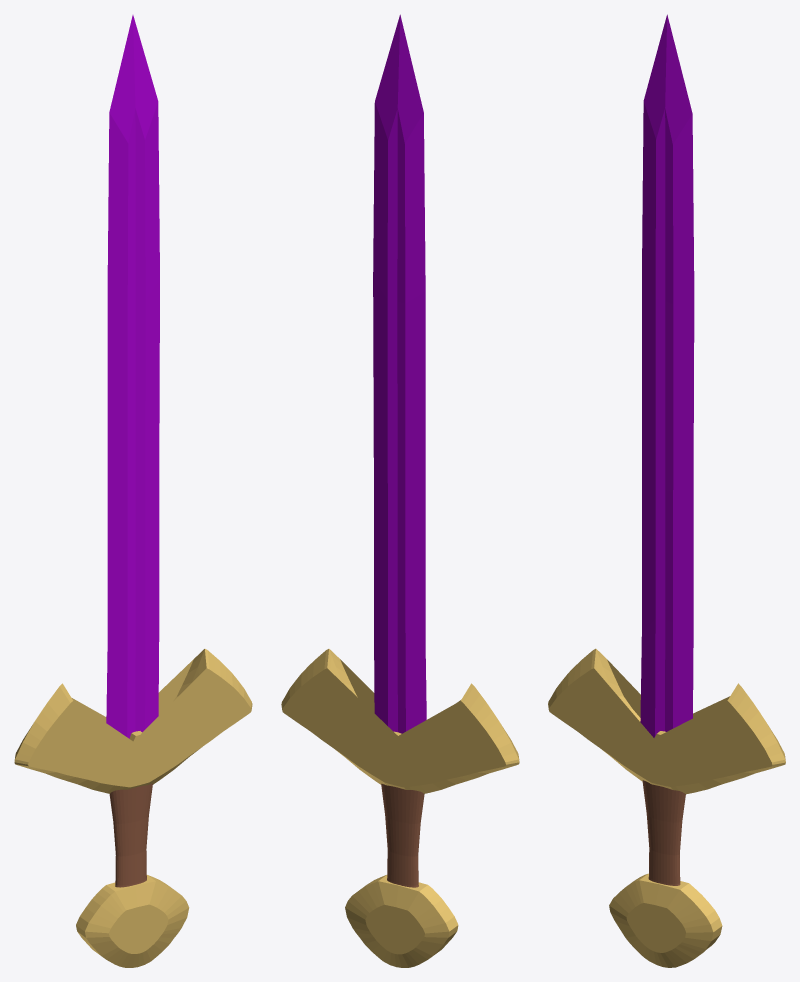
The model's file is Sword.fbx.
3 renders of one model, left to right at view 1: azimuth 30°, elevation 25°; view 2: azimuth 150°, elevation 25°; view 3: azimuth 330°, elevation 25°, orthographic.
Parts seen in each view (by area): view 1: Sword; view 2: Sword; view 3: Sword.
Part boxes in pixels (x1,y1,x2,y2): Sword: (14,15,252,967); Sword: (281,14,519,967); Sword: (548,14,785,967).
Bounding box in the file's own units: 172 × 657 × 19.95.
